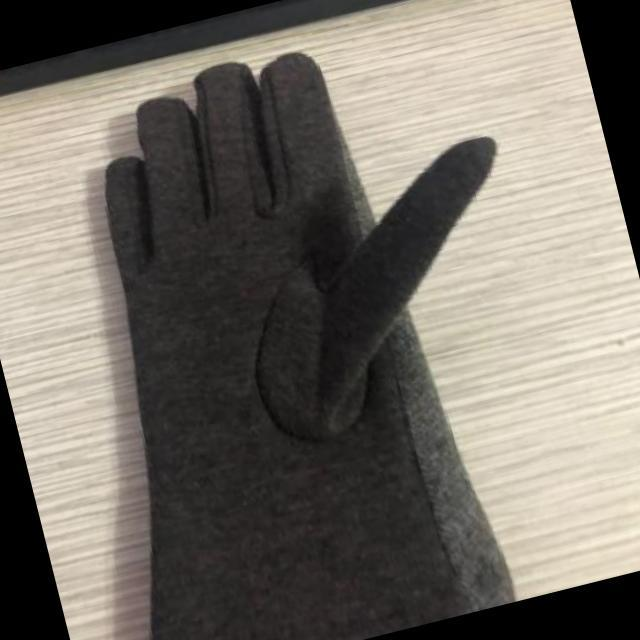glove: (103, 48, 519, 638)
